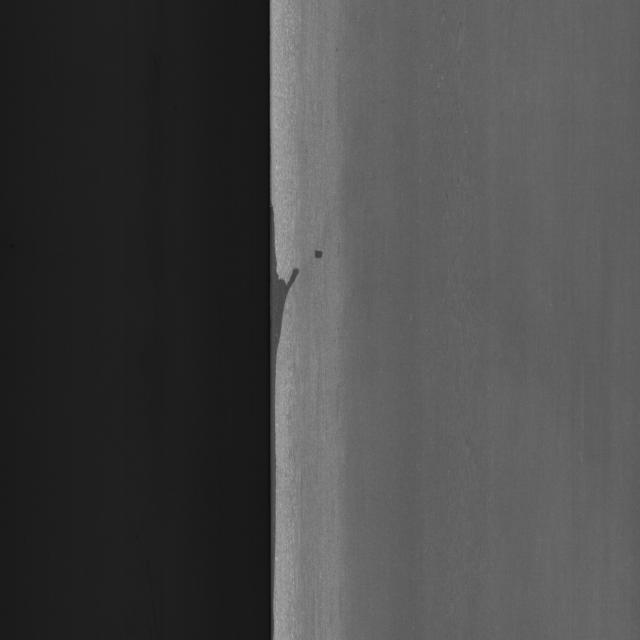water_spot: (258, 197, 326, 427)
